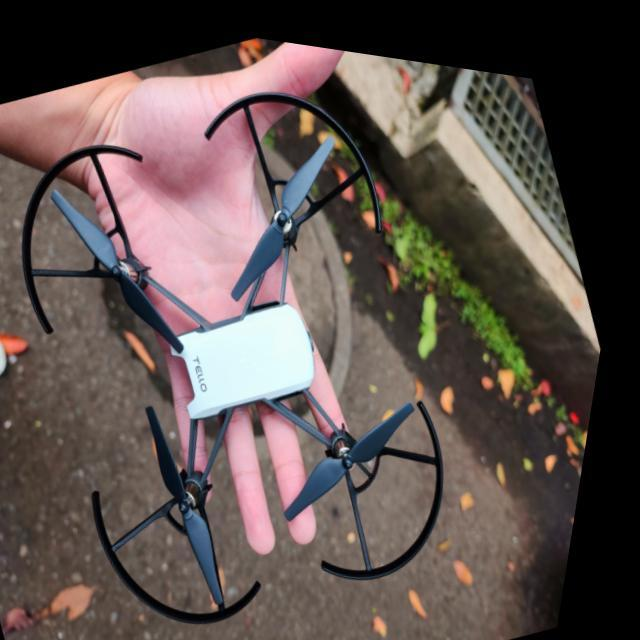drone: (24, 74, 462, 621)
